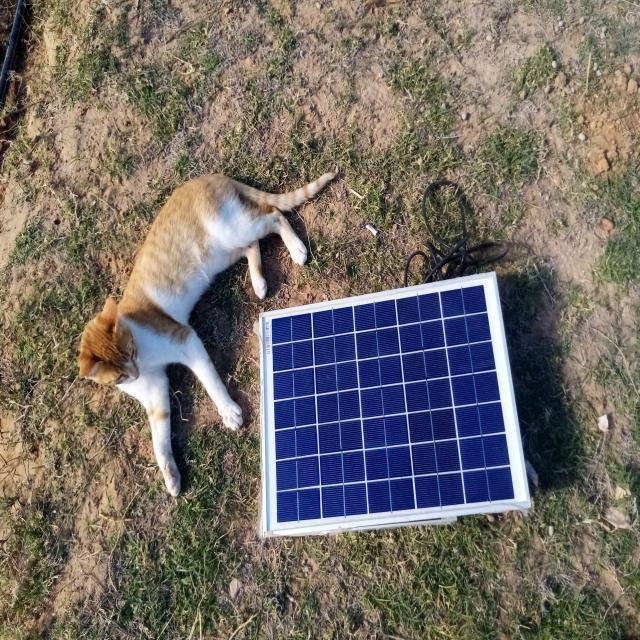no faulty: (259, 270, 532, 538)
